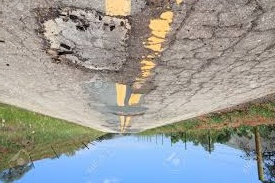pothole: (30, 3, 127, 78), (94, 101, 147, 118)
